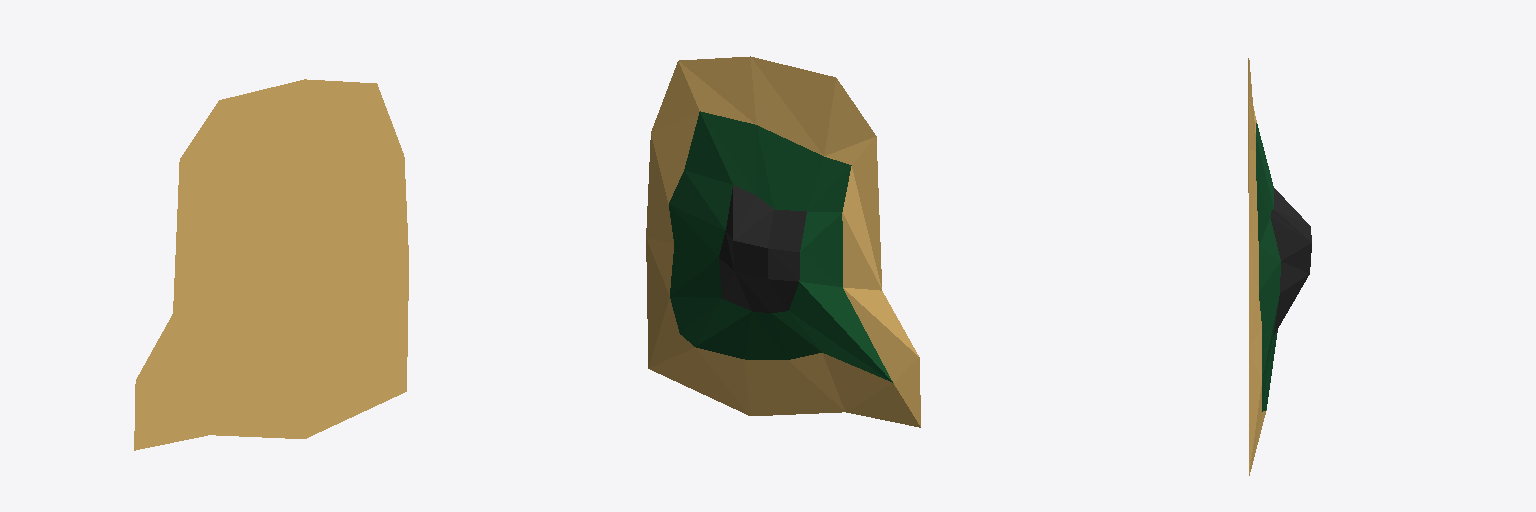
File: island2.obj
The picture shows the model from 3 angles: view 1: azimuth 30°, elevation 25°; view 2: azimuth 150°, elevation 25°; view 3: azimuth 270°, elevation 25°; orthographic projection.
Visible parts, largest first — view 1: Cube; view 2: Cube; view 3: Cube.
Part boxes in pixels (left/top/right/bottom): Cube: left=134, top=79, right=408, bottom=450; Cube: left=646, top=56, right=920, bottom=427; Cube: left=1248, top=58, right=1311, bottom=475.
Bounding box in the file's own units: 1.46 × 1.83 × 0.2966.